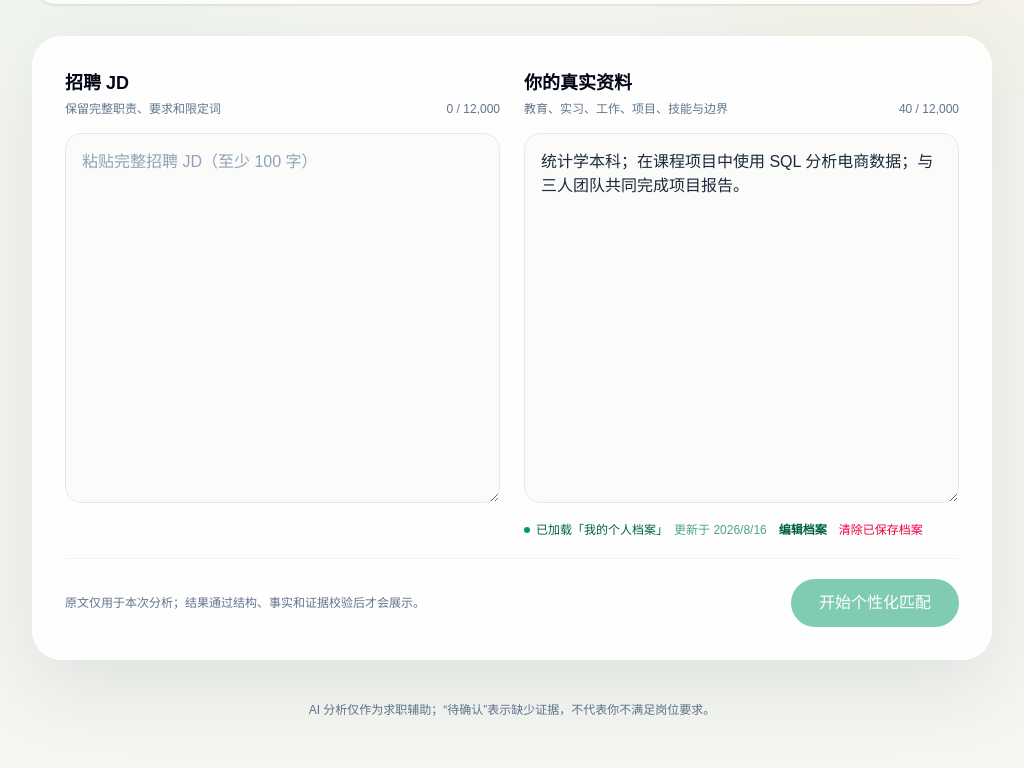
Scenario: saved profile prefill › clears the saved profile and textarea after confirmation
(page scrolled)
Check: the text box named "候选人资料" holds "统计学本科；在课程项目中使用 SQL 分析电商数据；与三人团队共同完成项目报告。", box top-left (524, 133), bottom-right (959, 503)
Click the button "清除已保存档案".
click(881, 530)  # box top-left (839, 522), bottom-right (923, 538)
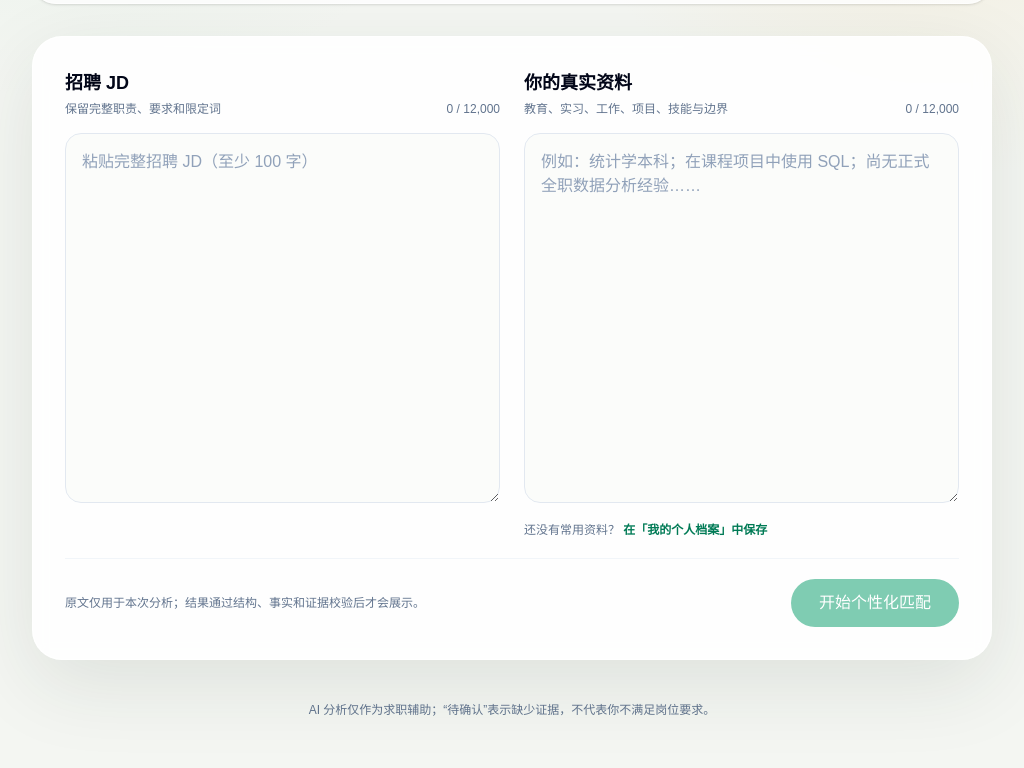
Check: the text box named "候选人资料" is empty, box top-left (524, 133), bottom-right (959, 503)
